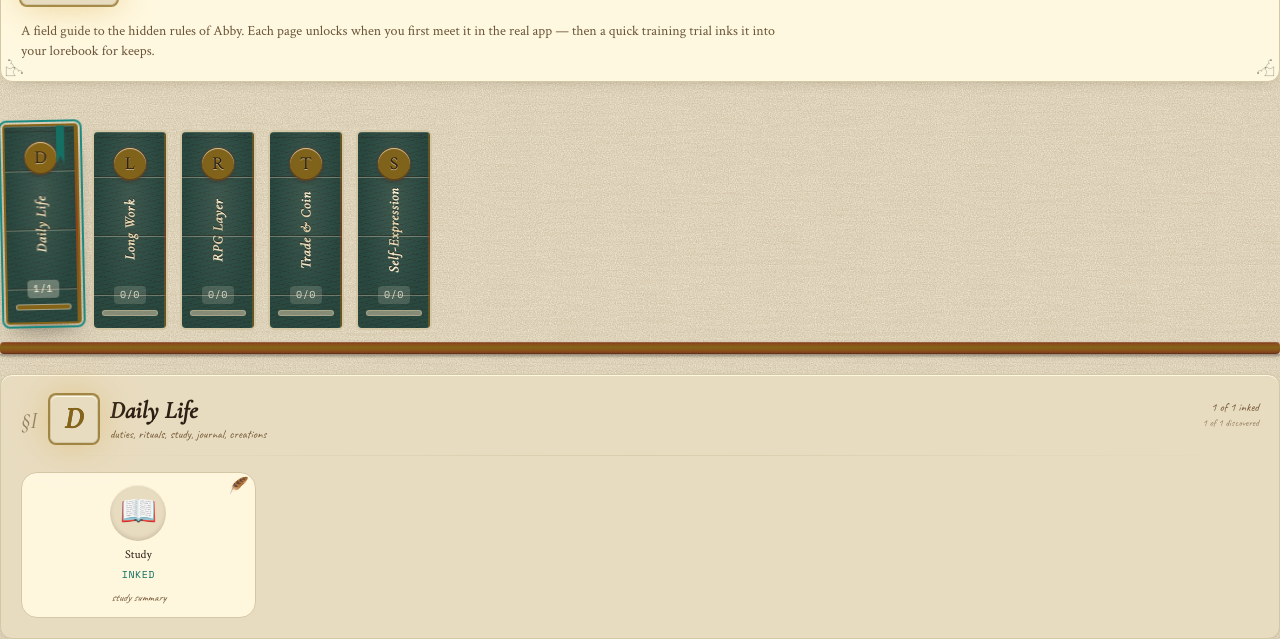
Test: Lorebook detail view (kept for trained entries) › opens the existing detail sheet when an inked tile is clicked
(page scrolled)
Click the button with aria-label "study · inked".
click(138, 545)  # box [21,472,256,618]
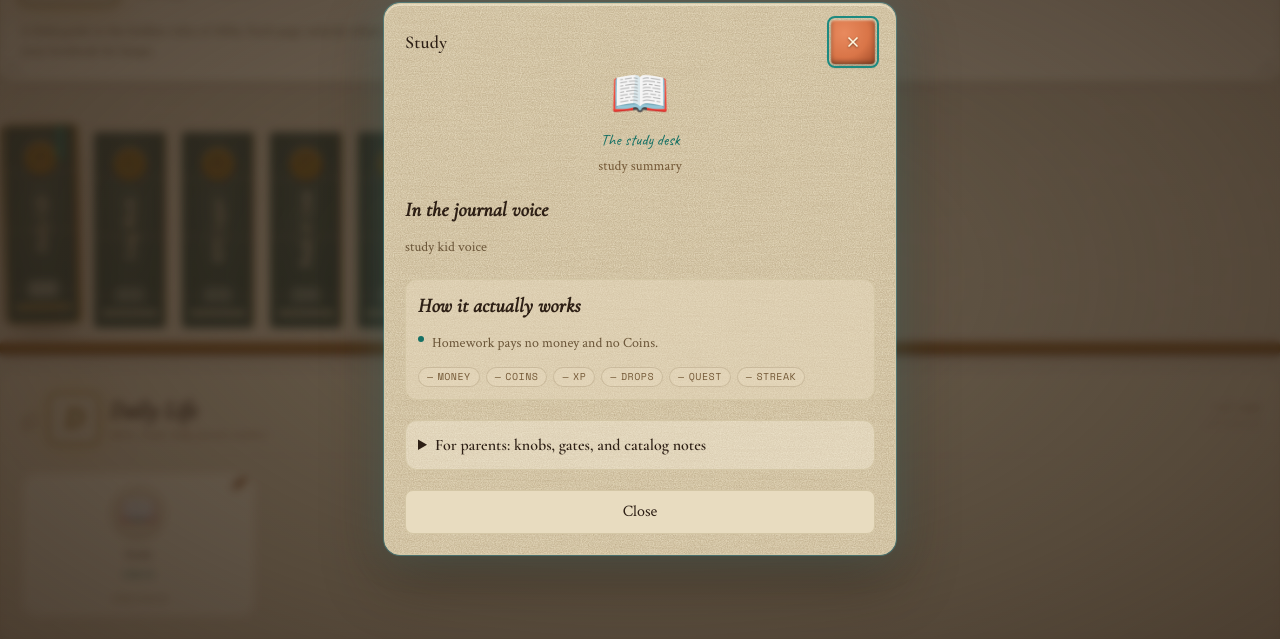
expect the dialog "Study" is shown: met, box [384,3,896,555]
expect the text "Homework pays no money and no Coins." is shown: met, box [432,332,658,355]
